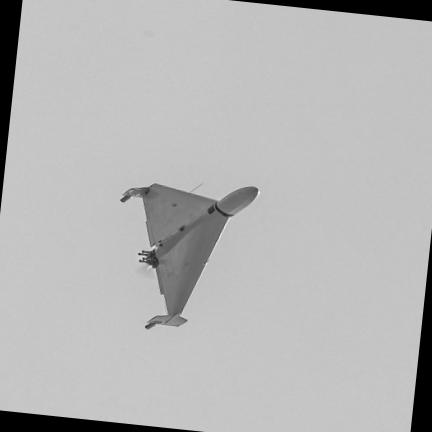Shahed: (124, 183, 257, 324)
